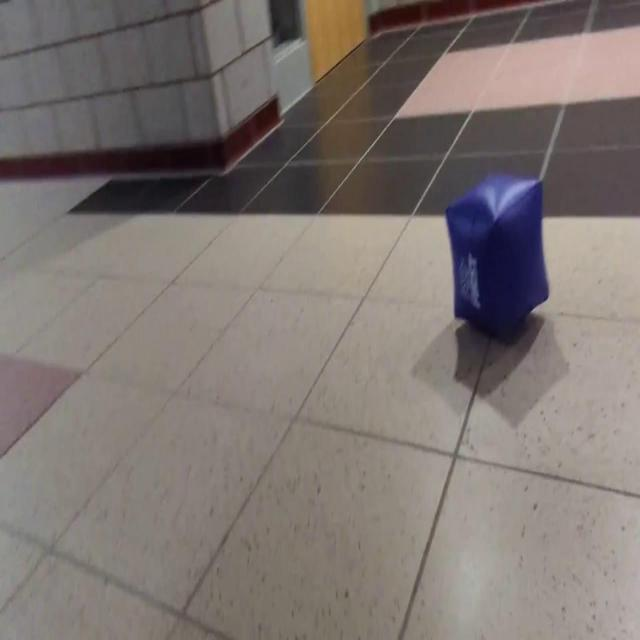frc_cube: (442, 167, 546, 343)
